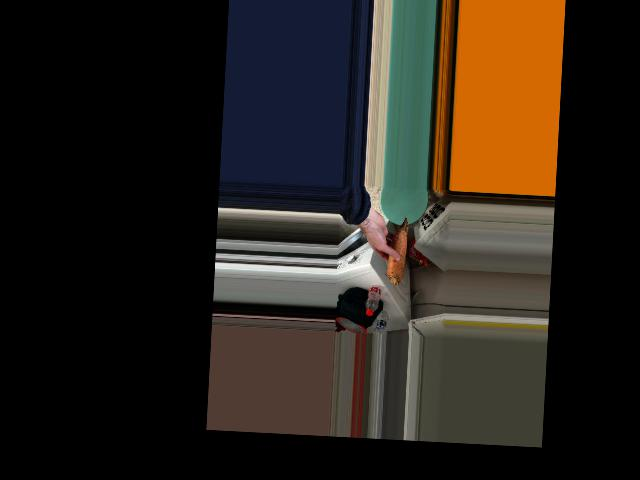sweet_potato: (385, 217, 413, 283)
